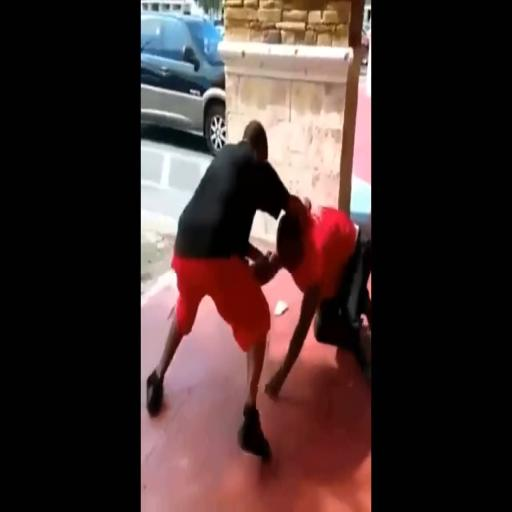violencia: (144, 111, 370, 466)
